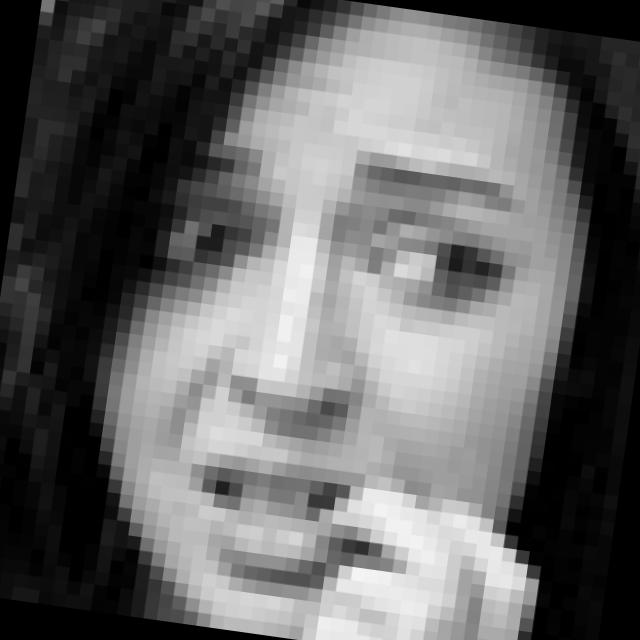fear: (108, 125, 539, 626)
